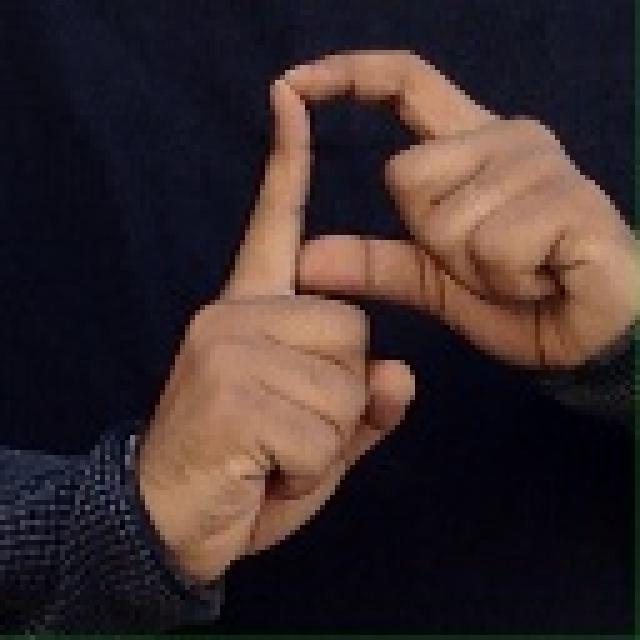D: (138, 45, 640, 599)
